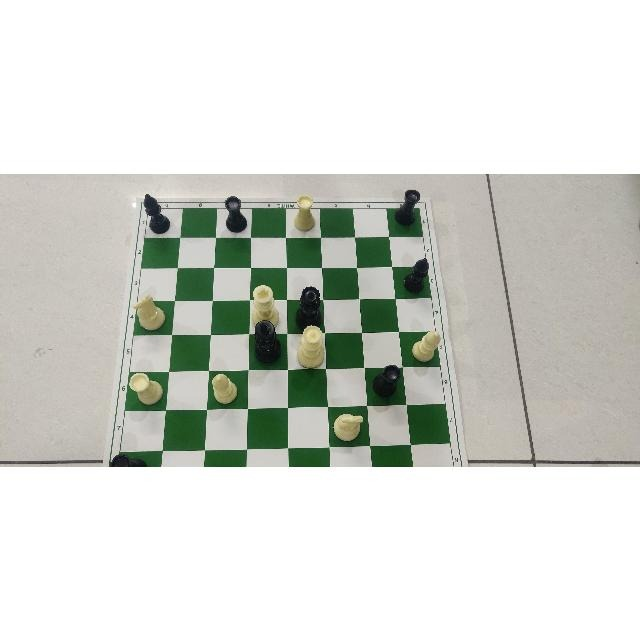black-bishop: (141, 193, 170, 234), (402, 256, 430, 293)
black-king: (253, 321, 282, 363)
black-queen: (294, 285, 324, 328)
black-rook: (395, 188, 421, 224), (372, 365, 400, 397), (224, 195, 248, 231), (109, 450, 147, 465)
white-bishop: (412, 331, 440, 362), (211, 371, 238, 403)
white-king: (250, 284, 280, 331)
white-knight: (133, 294, 167, 331), (335, 406, 363, 446)
white-queen: (298, 324, 326, 366)
white-rook: (130, 370, 164, 405), (295, 194, 316, 230)
